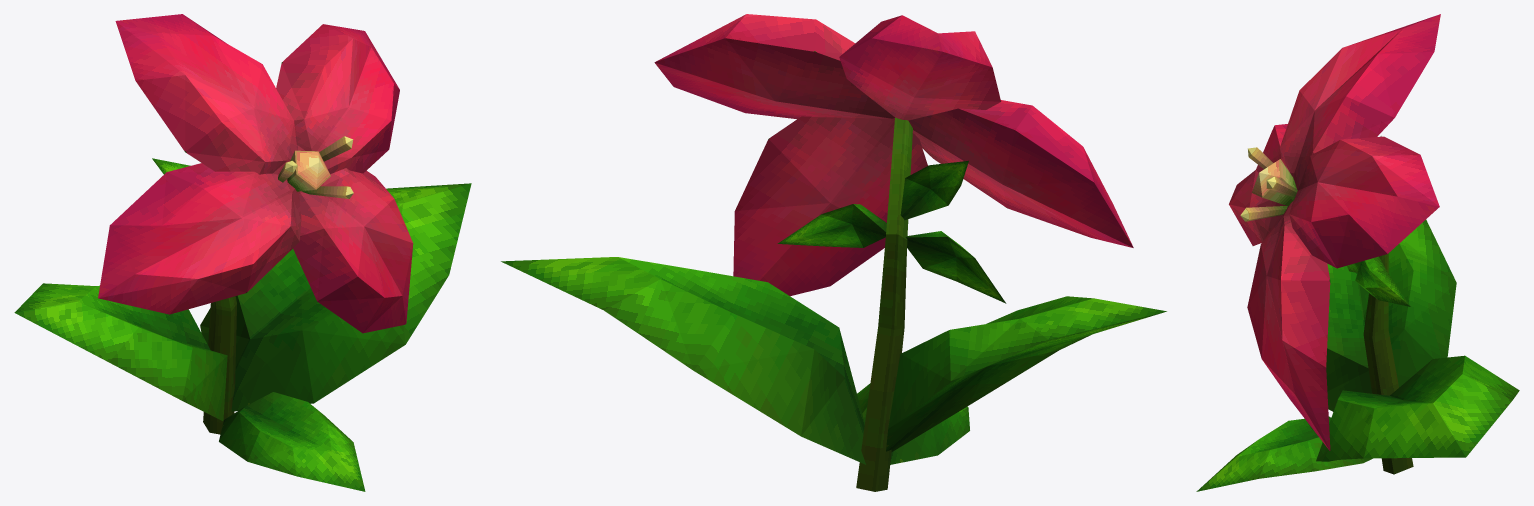
The model's file is Flower.obj.
3 views of the same model, side by side, from view 1: azimuth 30°, elevation 25°; view 2: azimuth 150°, elevation 25°; view 3: azimuth 270°, elevation 25° (orthographic). The views are drawn at different scales.
Parts seen in each view (by area): view 1: Inst3D27_RefRep.226; view 2: Inst3D27_RefRep.226; view 3: Inst3D27_RefRep.226.
Boxes of the visible parts, <box> form: Inst3D27_RefRep.226: <box>14,14,471,491</box>; Inst3D27_RefRep.226: <box>501,14,1166,491</box>; Inst3D27_RefRep.226: <box>1196,14,1519,491</box>.
Size of the model in its own units: 3.9 by 2.99 by 2.11.
Materials: 1 (1 with a texture image).
